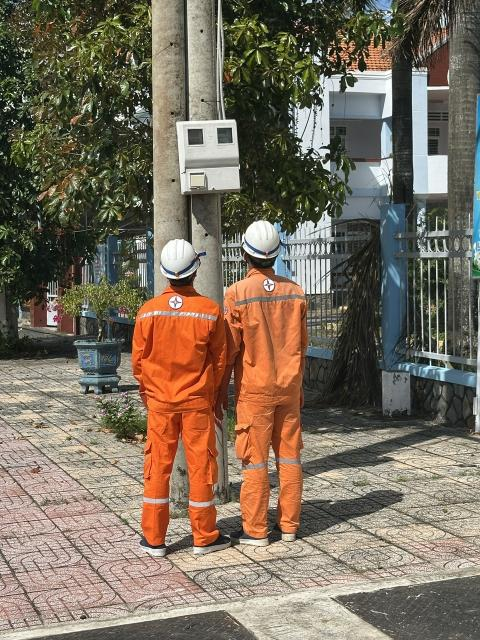helmet: (153, 222, 202, 288), (232, 215, 286, 268)
shoes: (267, 502, 307, 550), (190, 523, 235, 559), (137, 532, 173, 565), (239, 514, 267, 548)
